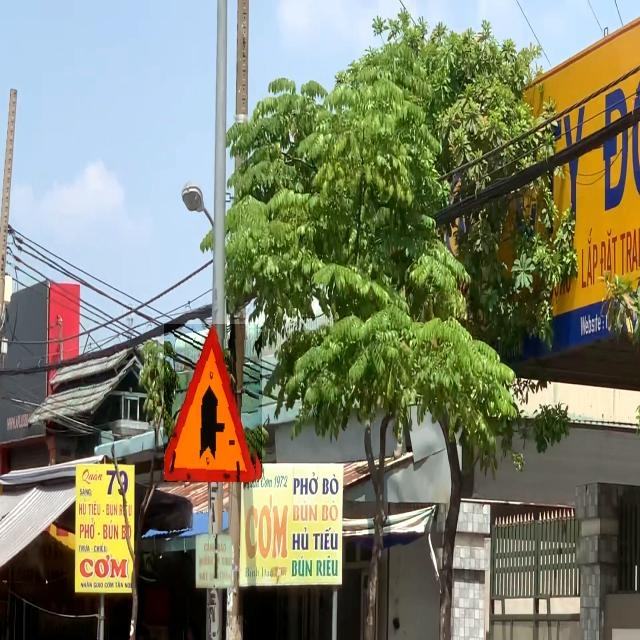bien_nguy_hiem: (165, 324, 262, 482)
